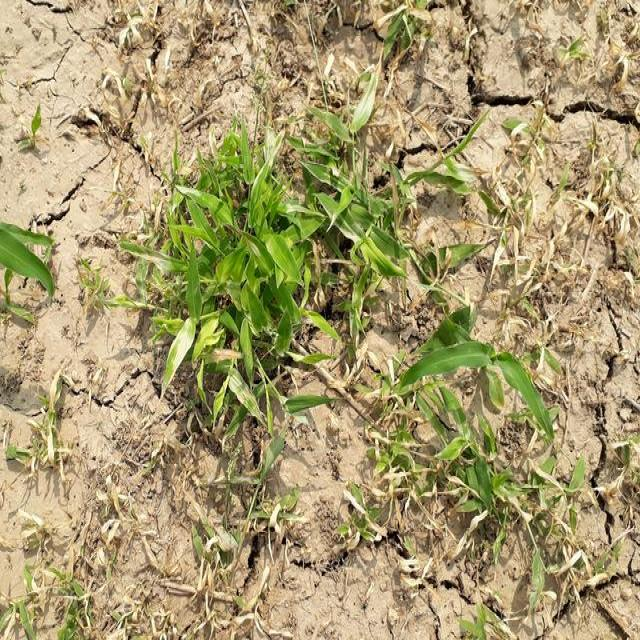weed: (130, 140, 394, 471), (415, 299, 547, 534)
